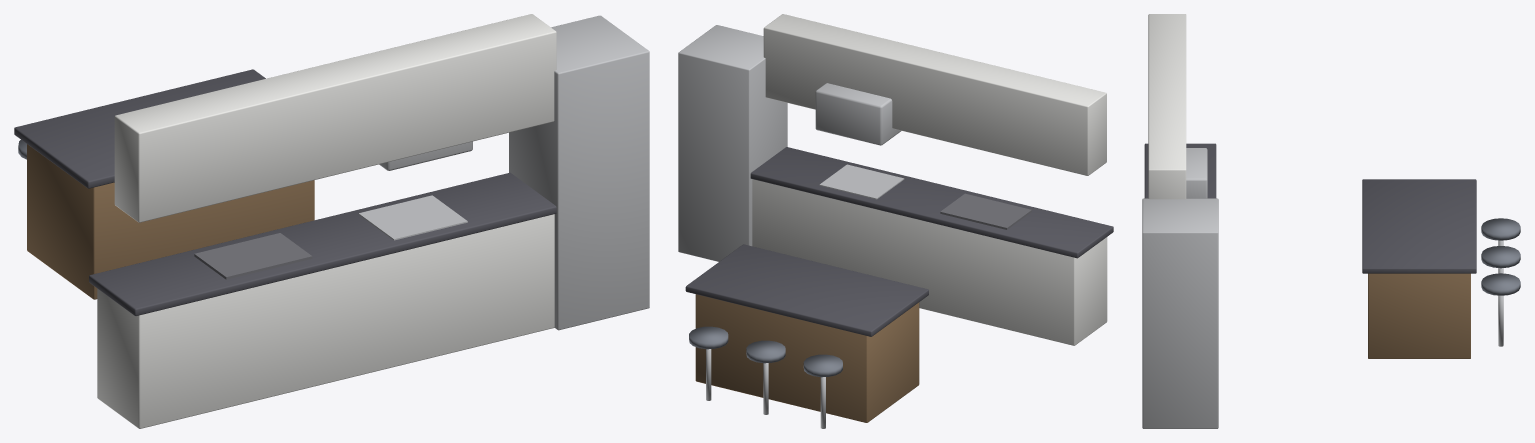
The model's file is kitchen.glb.
The picture shows the model from 3 angles, left to right: view 1: azimuth 30°, elevation 25°; view 2: azimuth 150°, elevation 25°; view 3: azimuth 270°, elevation 25°; orthographic projection. The views are drawn at different scales.
Parts seen in each view (by area): view 1: Kitchen; view 2: Kitchen; view 3: Kitchen.
Part boxes in pixels (x1,y1,x2,y2): Kitchen: [14, 14, 649, 428]; Kitchen: [678, 14, 1113, 428]; Kitchen: [1142, 14, 1520, 428].
Bounding box in the file's own units: 4.17 × 2.3 × 3.48.
